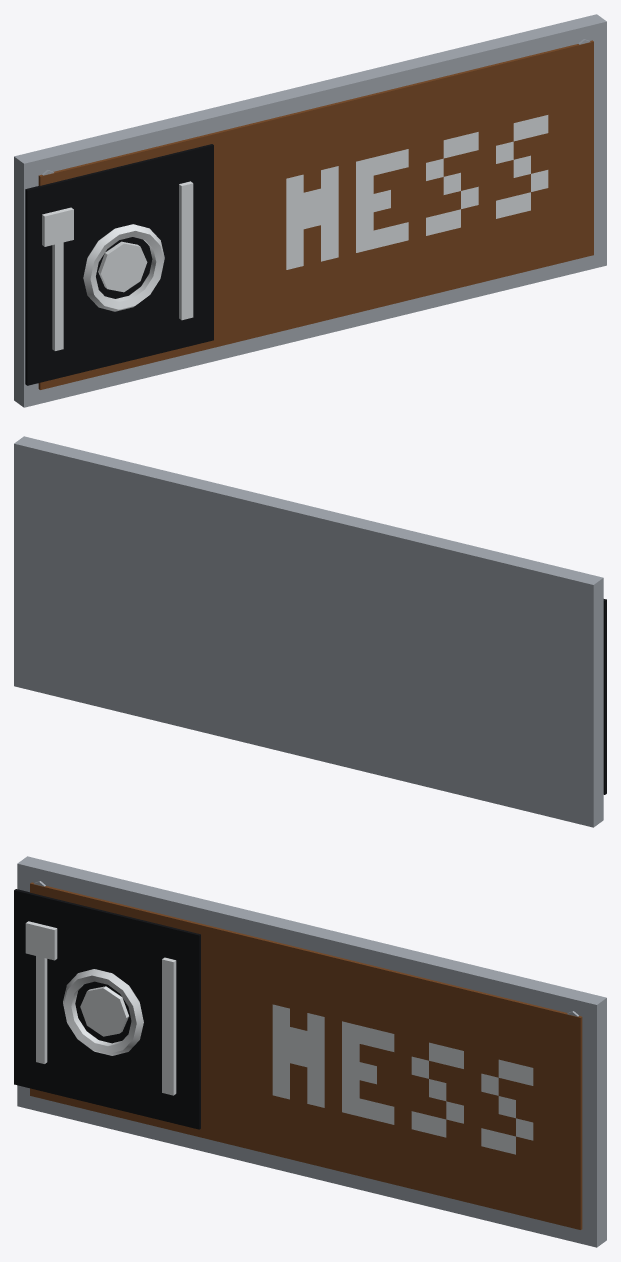
The model's file is sign_dept_mess.glb.
3 renders of one model, top to bottom at view 1: azimuth 30°, elevation 25°; view 2: azimuth 150°, elevation 25°; view 3: azimuth 330°, elevation 25°, orthographic.
Visible parts, largest first — view 1: sign_dept_mess; view 2: sign_dept_mess; view 3: sign_dept_mess.
Boxes of the visible parts, bbox=[...] form: sign_dept_mess: bbox=[14, 14, 606, 407]; sign_dept_mess: bbox=[14, 436, 606, 827]; sign_dept_mess: bbox=[14, 856, 606, 1247].
Size of the model in its own units: 1 by 0.4 by 0.0595.
